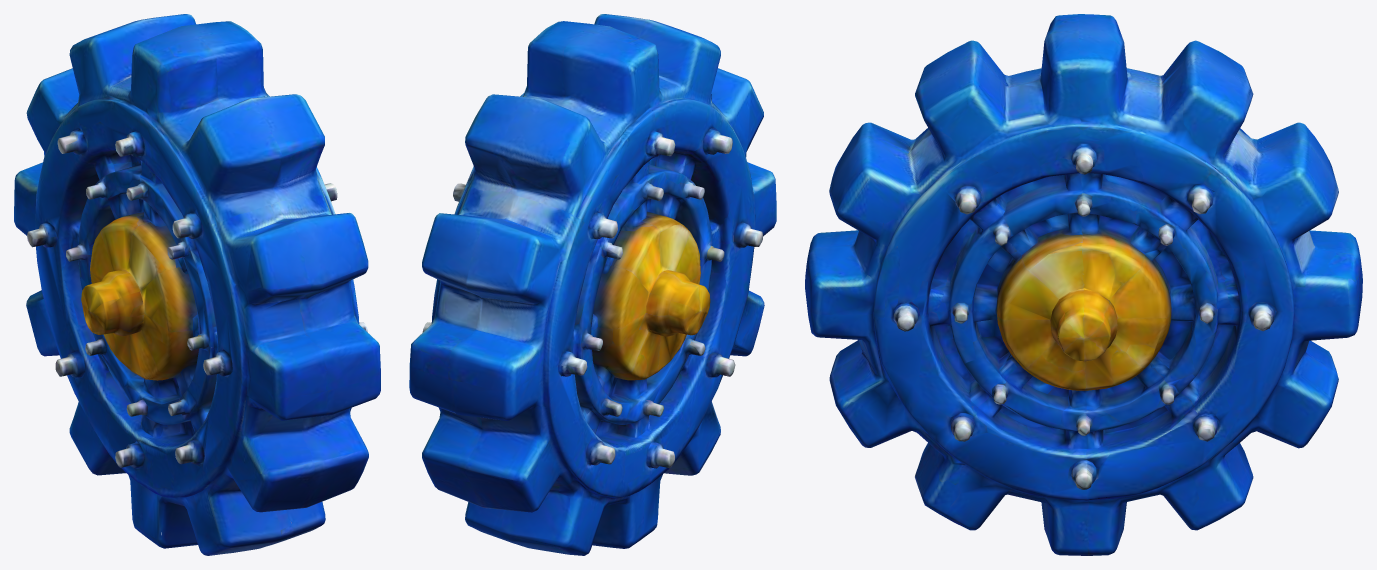
The model's file is blue_jt_tiny_lod1.glb.
3 renders of one model, left to right at view 1: azimuth 30°, elevation 25°; view 2: azimuth 150°, elevation 25°; view 3: azimuth 270°, elevation 25°, orthographic.
Visible parts, largest first — view 1: tripo_node_83f0cb95-462c-4354-ad7a-c828c670988d; view 2: tripo_node_83f0cb95-462c-4354-ad7a-c828c670988d; view 3: tripo_node_83f0cb95-462c-4354-ad7a-c828c670988d.
Part boxes in pixels (left/top/right/bottom): tripo_node_83f0cb95-462c-4354-ad7a-c828c670988d: left=14, top=14, right=380, bottom=555; tripo_node_83f0cb95-462c-4354-ad7a-c828c670988d: left=409, top=14, right=776, bottom=555; tripo_node_83f0cb95-462c-4354-ad7a-c828c670988d: left=805, top=14, right=1362, bottom=555.
Bounding box in the file's own units: 0.4431 × 0.9798 × 0.9791.
1 material, 1 textured.
